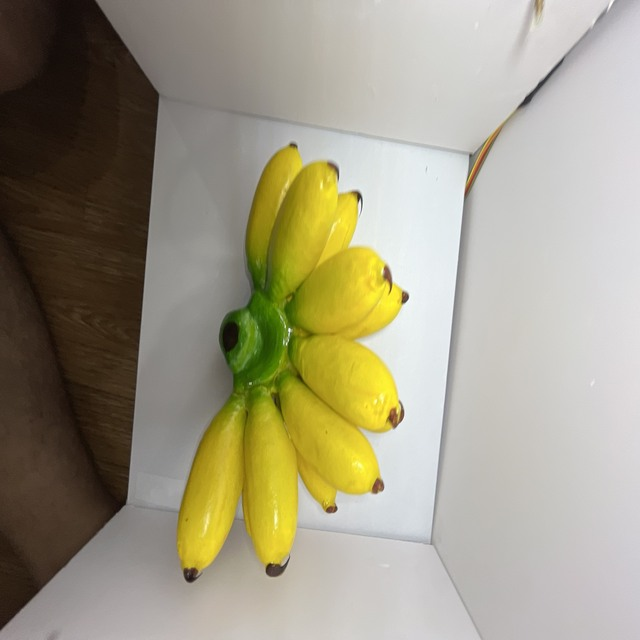Chuoi: (167, 127, 431, 607)
